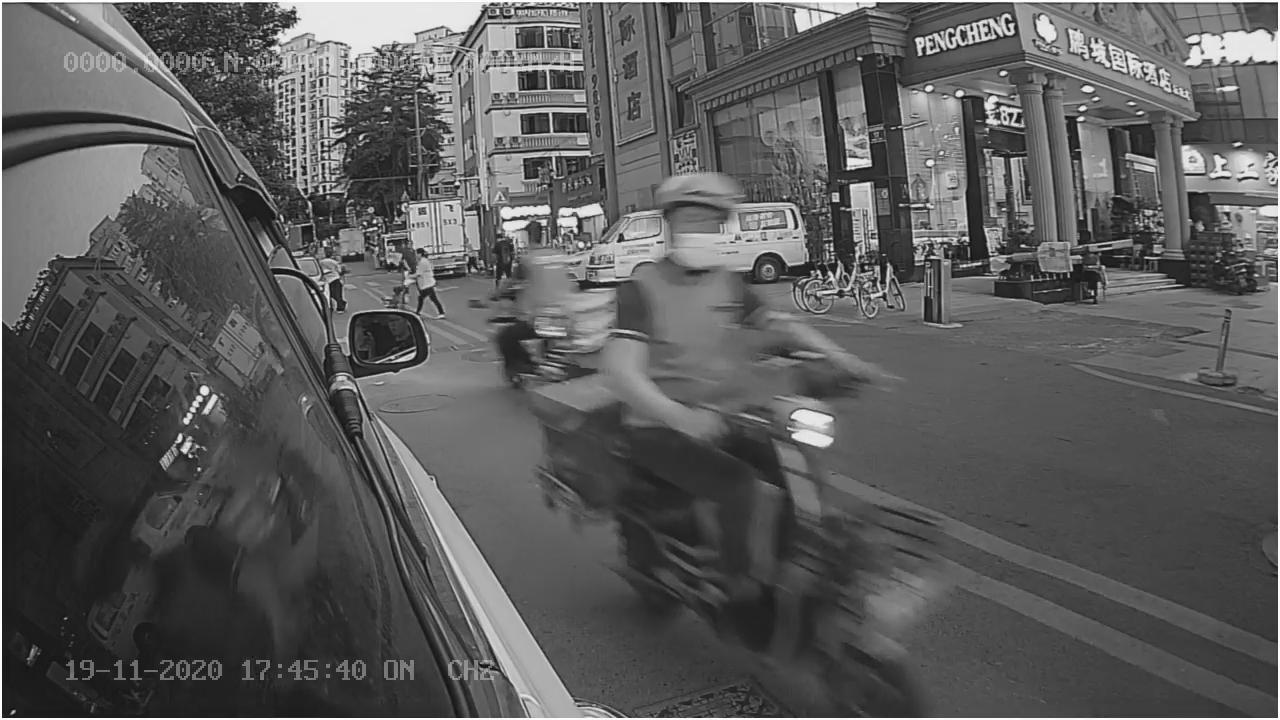person: (613, 176, 751, 423)
